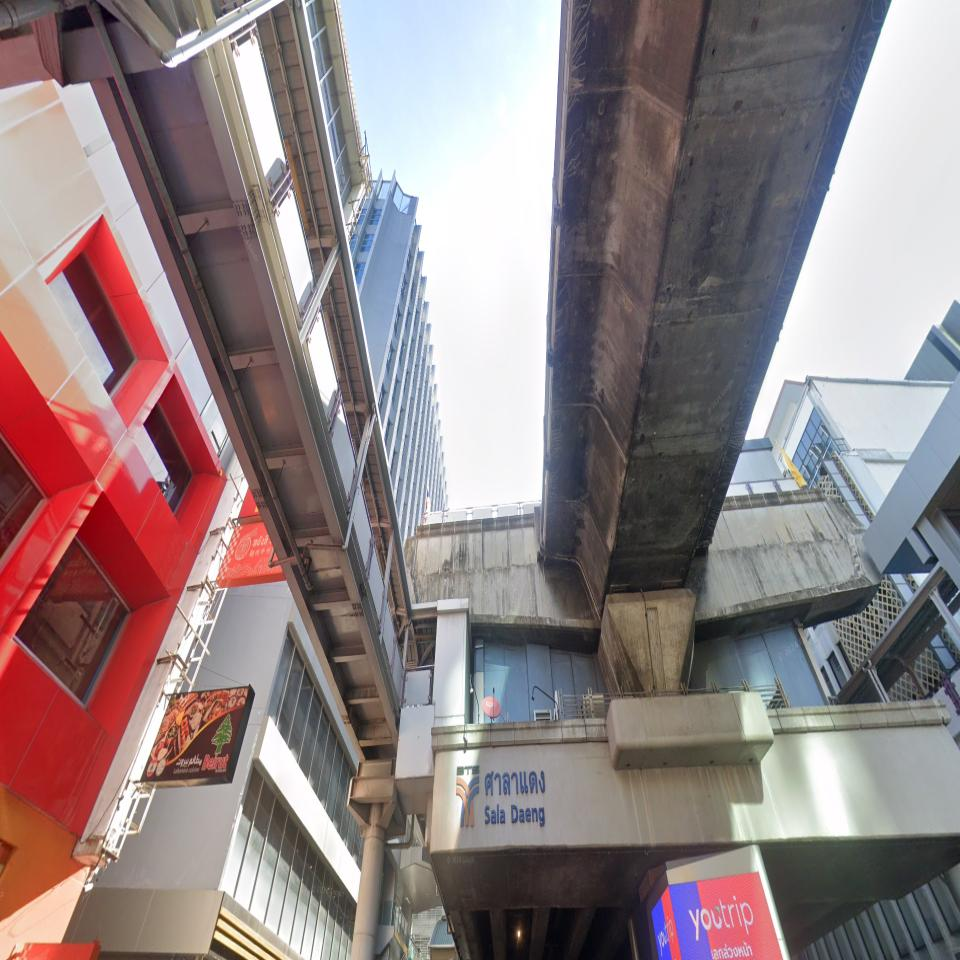Sala Daeng: (455, 764, 548, 828), (484, 769, 547, 828)
